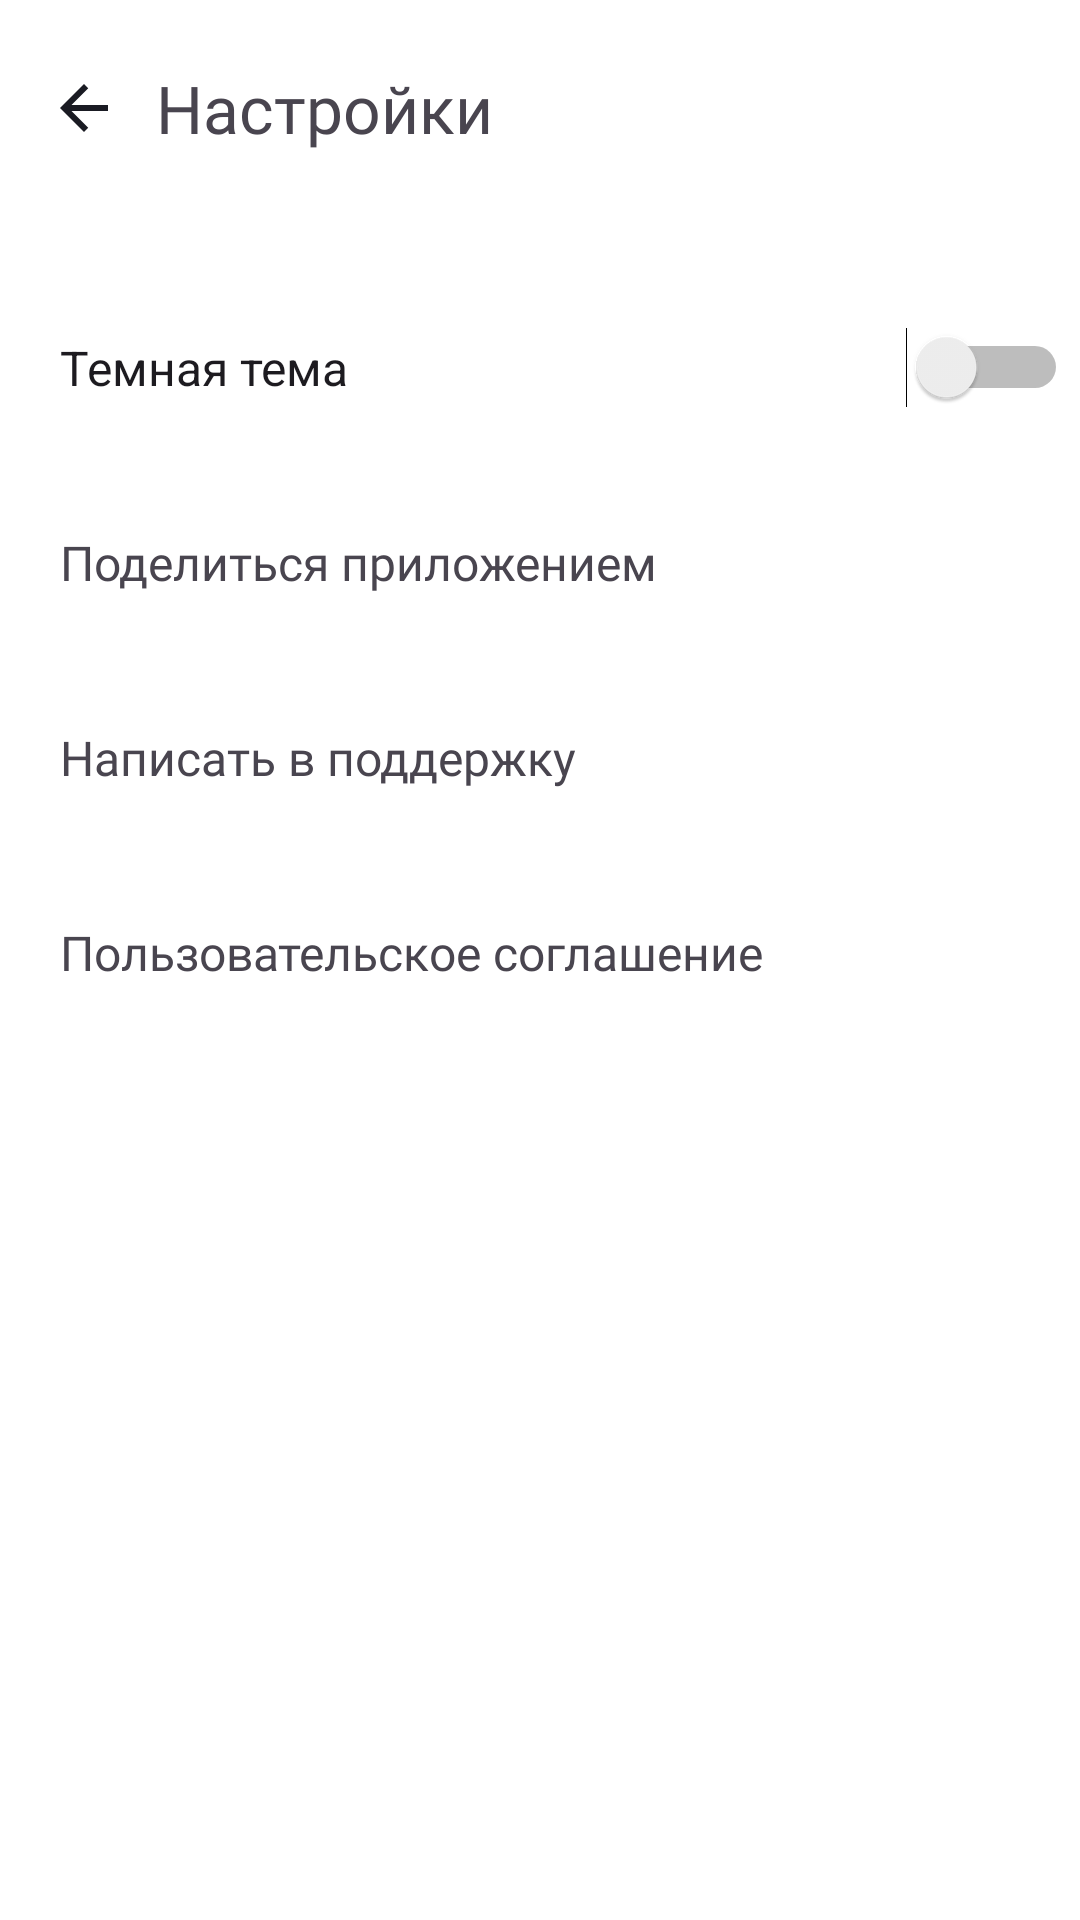

Icon click points for this 1080×1920 phone screenshot, format (x=x, y=y):
arrowleft: (x=84, y=108)
